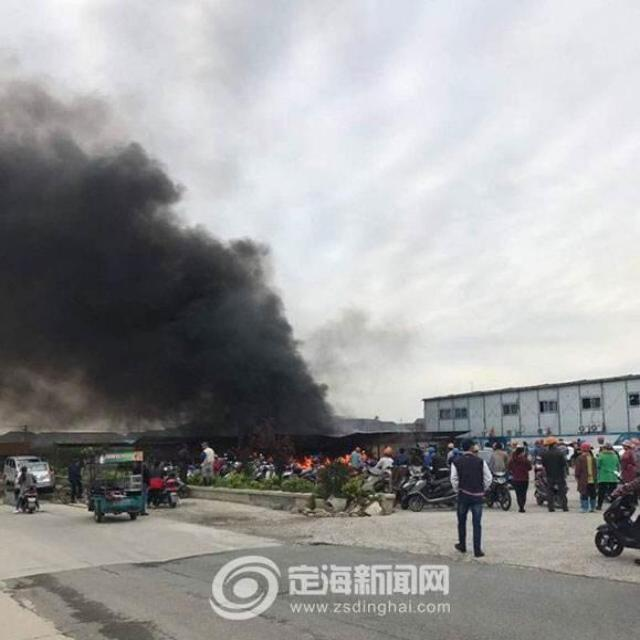Smoke: (0, 74, 357, 448)
